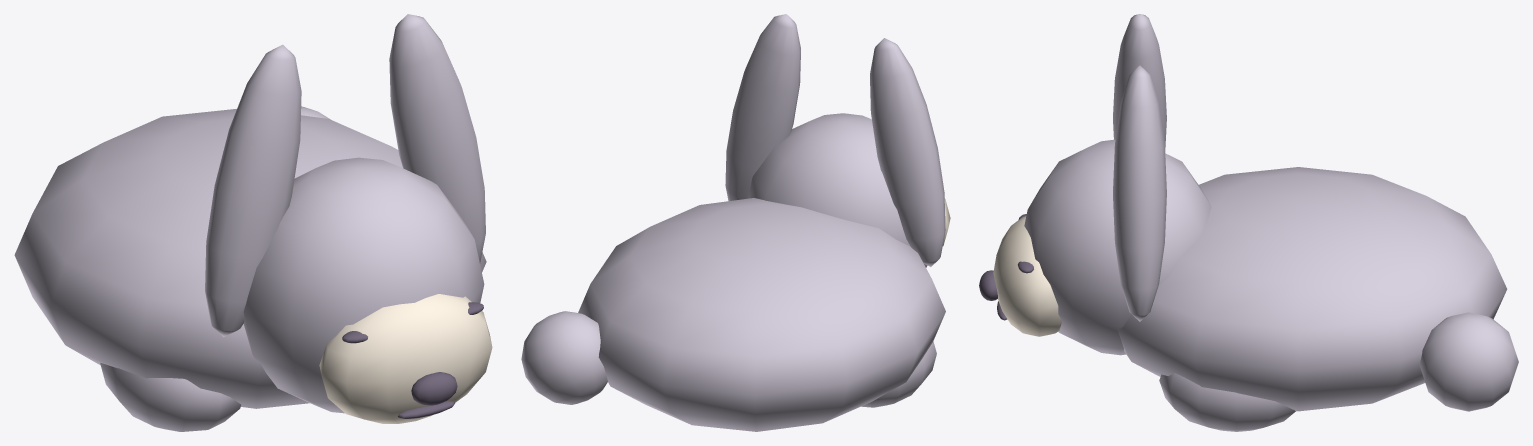
Rendered from rabbit-reflection.glb.
The picture shows the model from 3 angles, left to right: view 1: azimuth 30°, elevation 25°; view 2: azimuth 150°, elevation 25°; view 3: azimuth 270°, elevation 25°; orthographic projection. The views are drawn at different scales.
Parts seen in each view (by area): view 1: rabbit reflection offline illustration; view 2: rabbit reflection offline illustration; view 3: rabbit reflection offline illustration.
Part boxes in pixels (x1,y1,x2,y2): rabbit reflection offline illustration: (14,14,492,431); rabbit reflection offline illustration: (521,14,950,431); rabbit reflection offline illustration: (979,14,1518,431).
Bounding box in the file's own units: 0.5 × 0.4859 × 0.698.
